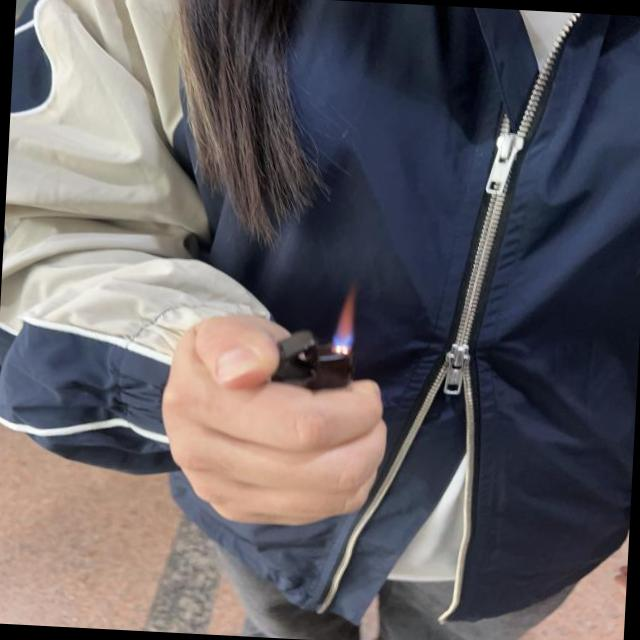Fire: (334, 289, 360, 348)
